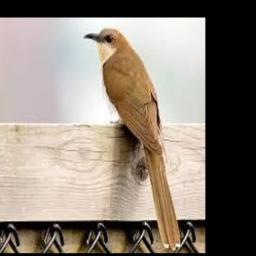Cuckoo: (83, 29, 180, 249)
